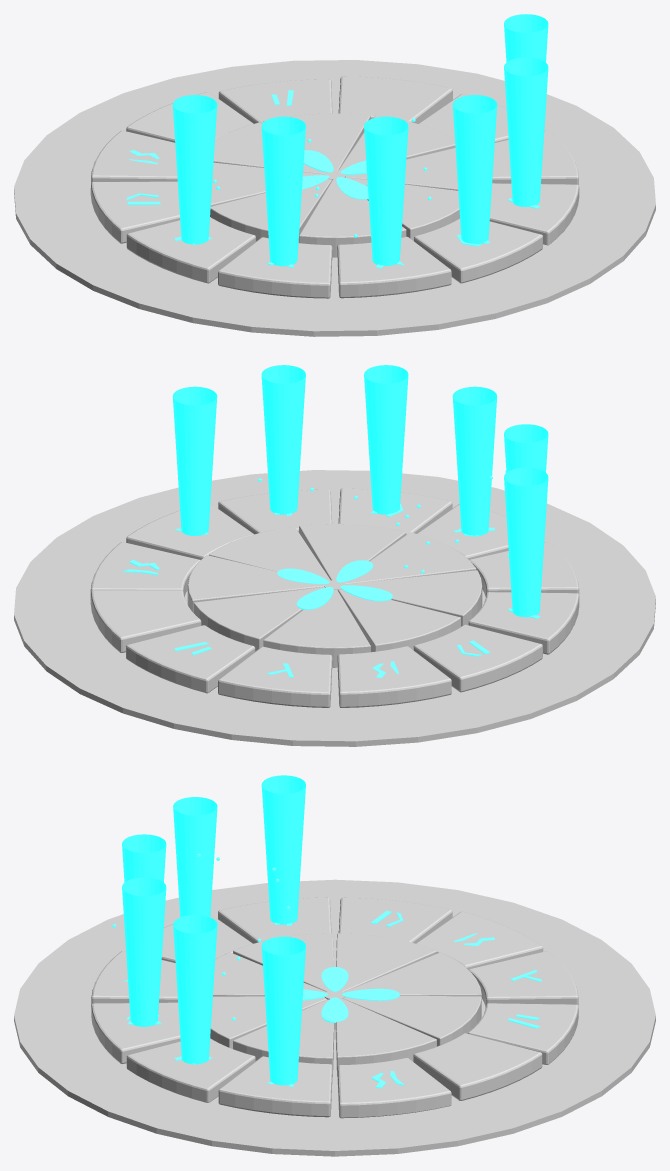
File: stonerune.fbx
3 renders of one model, top to bottom at view 1: azimuth 30°, elevation 25°; view 2: azimuth 150°, elevation 25°; view 3: azimuth 270°, elevation 25°, orthographic.
Visible parts, largest first — view 1: GroundBase, LightPillar_Rune_08, LightPillar_Rune_11, LightPillar_Rune_09, LightPillar_Rune_07, LightPillar_Rune_10, Stone_Outer_08, Stone_Outer_09, Stone_Outer_07, Stone_Outer_10, Stone_Outer_06, Stone_Outer_02 (+16 smaller); view 2: GroundBase, LightPillar_Rune_07, LightPillar_Rune_11, LightPillar_Rune_10, Stone_Outer_05, LightPillar_Rune_12, LightPillar_Rune_09, Stone_Outer_04, Stone_Outer_03, Stone_Outer_06, Stone_Outer_02, Stone_Inner_04 (+16 smaller); view 3: GroundBase, Stone_Outer_02, LightPillar_Rune_10, LightPillar_Rune_11, LightPillar_Rune_12, LightPillar_Rune_07, Stone_Outer_01, Stone_Outer_12, LightPillar_Rune_08, Stone_Outer_11, Stone_Outer_04, Stone_Outer_03 (+16 smaller).
Boxes of the visible parts, <box> form: GroundBase: <box>14,60,655,336</box>; LightPillar_Rune_08: <box>261,116,305,266</box>; LightPillar_Rune_11: <box>504,57,548,206</box>; LightPillar_Rune_09: <box>364,116,408,265</box>; LightPillar_Rune_07: <box>172,95,217,244</box>; LightPillar_Rune_10: <box>452,95,497,244</box>; Stone_Outer_08: <box>218,237,332,298</box>; Stone_Outer_09: <box>337,236,451,298</box>; Stone_Outer_07: <box>126,217,255,283</box>; Stone_Outer_10: <box>414,218,542,283</box>; Stone_Outer_06: <box>90,181,179,243</box>; Stone_Outer_02: <box>338,76,452,123</box>; GroundBase: <box>14,470,655,746</box>; LightPillar_Rune_07: <box>504,467,548,617</box>; LightPillar_Rune_11: <box>261,365,305,514</box>; LightPillar_Rune_10: <box>364,365,408,514</box>; Stone_Outer_05: <box>337,646,451,707</box>; LightPillar_Rune_12: <box>172,386,217,535</box>; LightPillar_Rune_09: <box>452,386,497,535</box>; Stone_Outer_04: <box>218,646,332,707</box>; Stone_Outer_03: <box>126,625,255,693</box>; Stone_Outer_06: <box>413,624,542,692</box>; Stone_Outer_02: <box>90,590,201,652</box>; Stone_Inner_04: <box>338,589,460,651</box>; GroundBase: <box>14,879,655,1156</box>; Stone_Outer_02: <box>413,1033,542,1100</box>; LightPillar_Rune_10: <box>122,877,166,1026</box>; LightPillar_Rune_11: <box>173,915,217,1064</box>; LightPillar_Rune_12: <box>261,936,305,1085</box>; LightPillar_Rune_07: <box>261,775,305,924</box>; Stone_Outer_01: <box>337,1057,451,1118</box>; Stone_Outer_12: <box>218,1056,332,1117</box>; LightPillar_Rune_08: <box>173,797,217,917</box>; Stone_Outer_11: <box>126,1038,255,1102</box>; Stone_Outer_04: <box>468,951,578,1006</box>; Stone_Outer_03: <box>468,1003,578,1064</box>.
Bounding box in the file's own units: 1040 × 278 × 1040.
